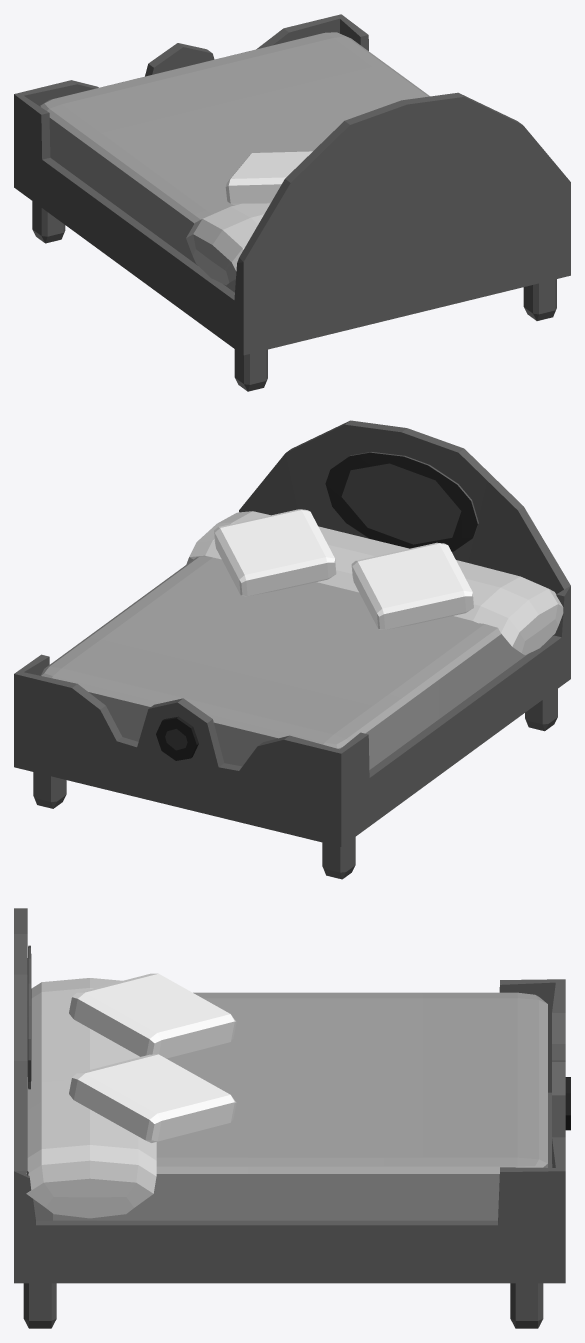
File: BedModel.fbx
The picture shows the model from 3 angles, top to bottom: view 1: azimuth 30°, elevation 25°; view 2: azimuth 150°, elevation 25°; view 3: azimuth 270°, elevation 25°; orthographic projection. The views are drawn at different scales.
Parts seen in each view (by area): view 1: BedModel; view 2: BedModel; view 3: BedModel.
Part boxes in pixels (x1,y1,x2,y2): BedModel: (14, 14, 570, 391); BedModel: (14, 420, 570, 879); BedModel: (14, 908, 570, 1328).
Bounding box in the file's own units: 235 × 174 × 287.
